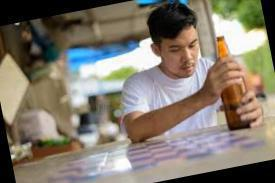Drunk: (167, 31, 200, 77)
